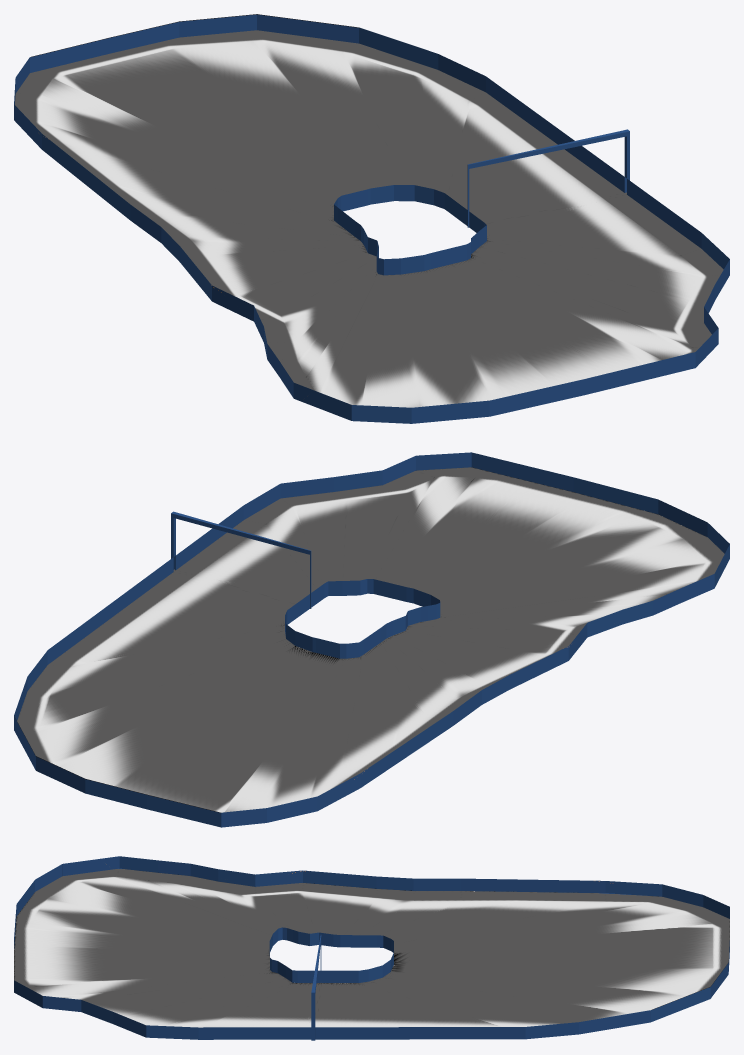
File: carretera2.0.obj
3 renders of one model, top to bottom at view 1: azimuth 30°, elevation 25°; view 2: azimuth 150°, elevation 25°; view 3: azimuth 270°, elevation 25°, orthographic. The views are drawn at different scales.
Parts seen in each view (by area): view 1: Plane; view 2: Plane; view 3: Plane.
Boxes of the visible parts, left/top/right/bottom form: Plane: left=14, top=14, right=729, bottom=423; Plane: left=14, top=452, right=729, bottom=827; Plane: left=14, top=856, right=729, bottom=1040.
Bounding box in the file's own units: 194 × 25.24 × 341.
